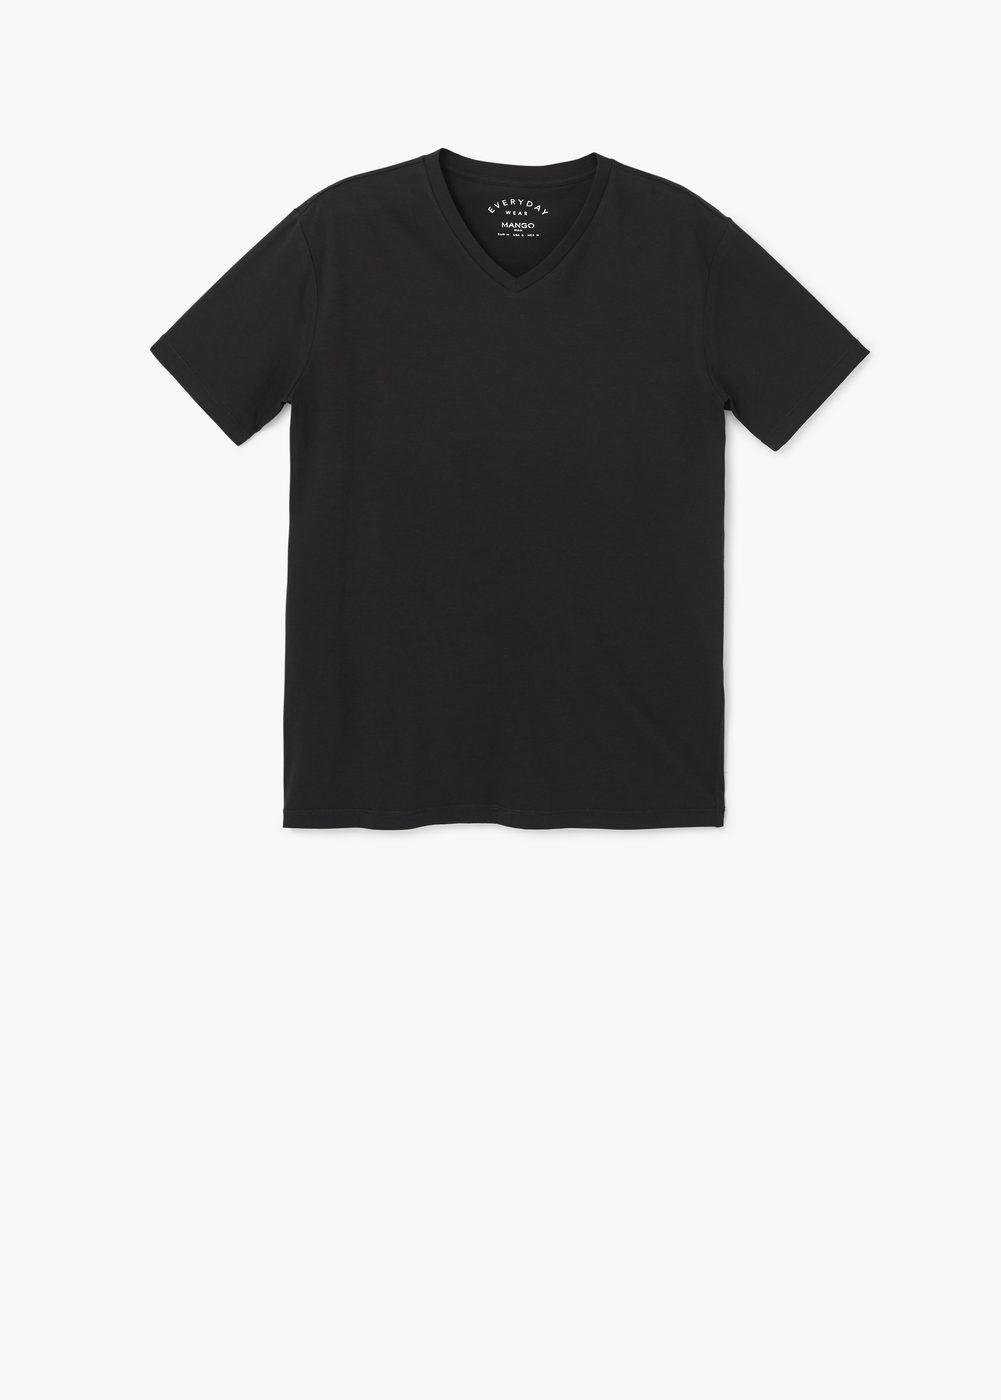teeshirt: (93, 127, 899, 1048)
